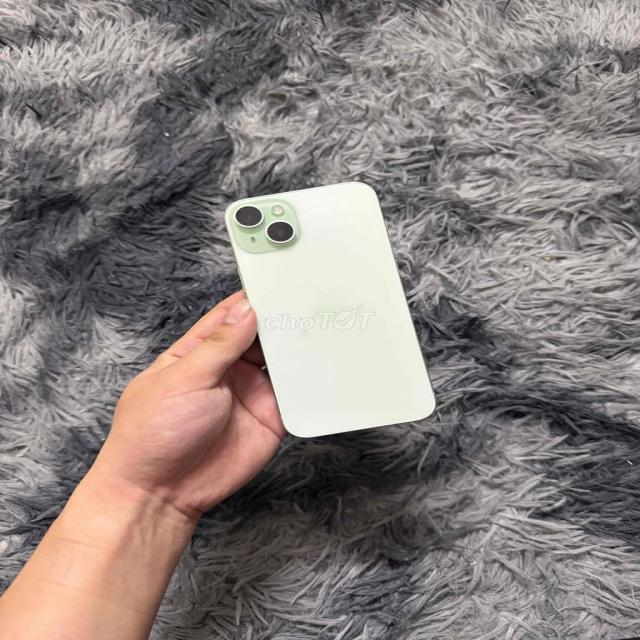gen_15: (220, 180, 439, 442)
